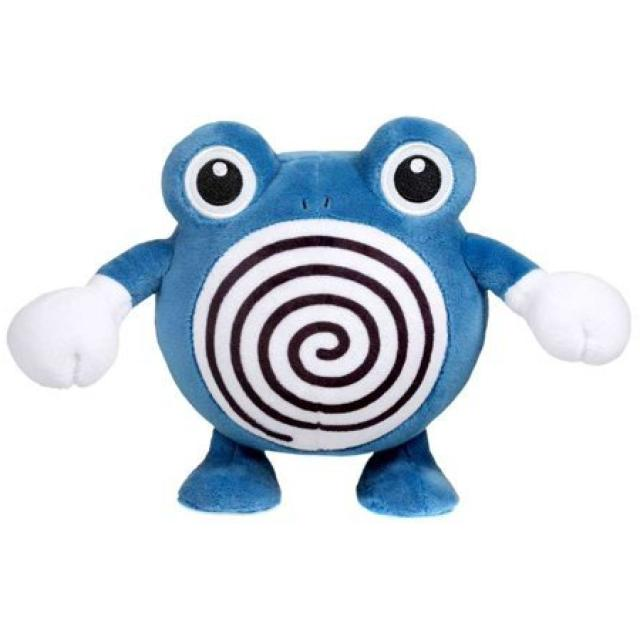Poliwhirl: (0, 112, 606, 526)
